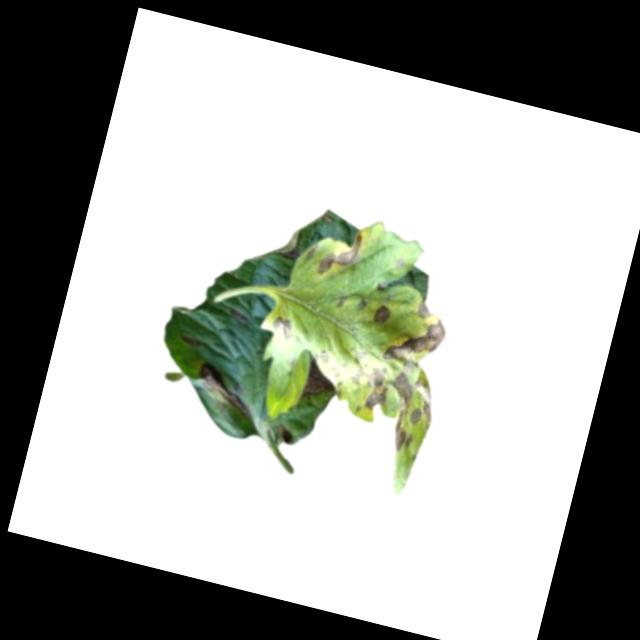Early_blight: (350, 293, 458, 457), (188, 356, 259, 425), (312, 224, 364, 283), (297, 352, 339, 403), (265, 314, 296, 346), (371, 301, 392, 326)
